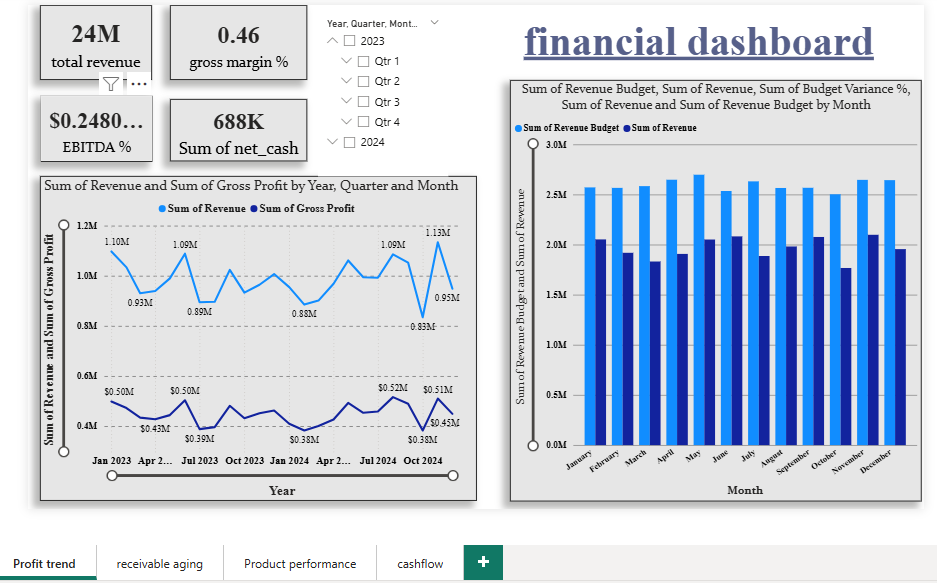

This screenshot's page, from the dashboard's own definition file:
{"tool":"powerbi","page":{"name":"Page 1","canvas":[1280,720],"ordinal":0},"visuals":[{"type":"card","fields":{"Values":["Data.total revenue"]},"box":[17.9,1.5,159.3,107.2],"z":0},{"type":"card","fields":{"Values":["Data.gross margin%"]},"box":[202.4,0,196.5,107.2],"z":1000},{"type":"card","fields":{"Values":["Data.EBITDA%"]},"box":[17.9,129.5,159.3,93.8],"z":2000},{"type":"card","fields":{"Values":["Sum(Data.net_cash)"]},"box":[202.4,134,196.5,89.3],"z":3000},{"type":"lineChart","fields":{"Y":["Sum(Data.Revenue)","Sum(Data.Gross Profit)"],"Category":["Data.Month.Variation.Date Hierarchy.Year","Data.Month.Variation.Date Hierarchy.Quarter","Data.Month.Variation.Date Hierarchy.Month"]},"box":[17.3,256.3,623.5,463.7],"z":4000},{"type":"clusteredColumnChart","fields":{"Category":["Data.Month.Variation.Date Hierarchy.Month"],"Y":["Sum(Data.Revenue Budget)","Sum(Data.Revenue)"]},"box":[686.9,118.1,587.5,601.9],"z":5000},{"type":"slicer","fields":{"Values":["Data.Month.Variation.Date Hierarchy.Year","Data.Month.Variation.Date Hierarchy.Quarter","Data.Month.Variation.Date Hierarchy.Month","Data.Month.Variation.Date Hierarchy.Day"]},"box":[414.7,13,185.8,231.8],"z":6000},{"type":"textbox","box":[639.4,13,636.5,83.5],"z":7000}]}

Visuals, with their boxes on the page's 1280x720 design canvas (x1, y1, x2, y2). These are canvas units, not pixel positions in the 937x583 screenshot, which may show the page scaled, cropped or inside an application window:
card - Data.total revenue: pyautogui.locateOnScreen(18, 2, 177, 109)
card - Data.gross margin%: pyautogui.locateOnScreen(202, 0, 399, 107)
card - Data.EBITDA%: pyautogui.locateOnScreen(18, 130, 177, 223)
card - Sum(Data.net_cash): pyautogui.locateOnScreen(202, 134, 399, 223)
lineChart - Sum(Data.Revenue) x Sum(Data.Gross Profit): pyautogui.locateOnScreen(17, 256, 641, 720)
clusteredColumnChart - Data.Month.Variation.Date Hierarchy.Month x Sum(Data.Revenue Budget): pyautogui.locateOnScreen(687, 118, 1274, 720)
slicer - Data.Month.Variation.Date Hierarchy.Year x Data.Month.Variation.Date Hierarchy.Quarter: pyautogui.locateOnScreen(415, 13, 600, 245)
textbox: pyautogui.locateOnScreen(639, 13, 1276, 96)
